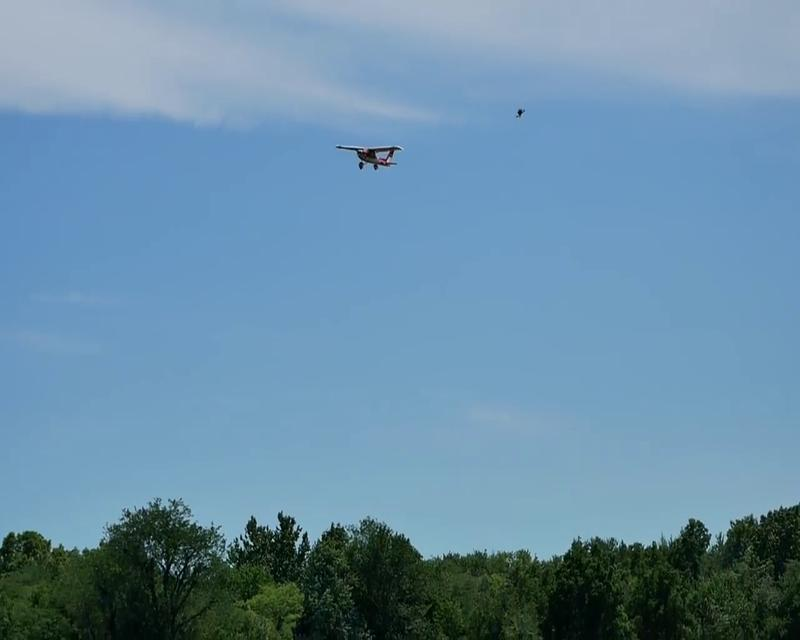UAV: (334, 143, 403, 171)
